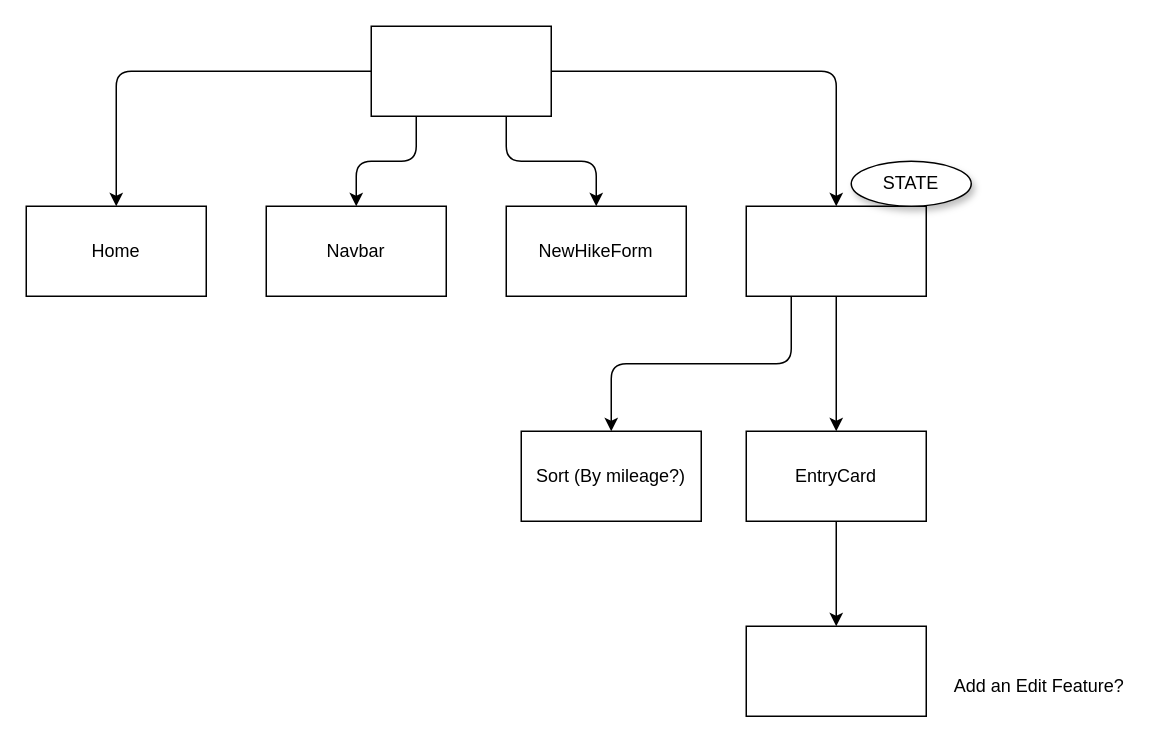
The diagram is 1163 pixels wide and 743 high, and some of its shapes have lost their labels. The shapes that lost their labels are listed below. From the top down, each one's centre as x and y in pixels, then its label:
At point (460, 70): "App".
At point (835, 250): "Entries".
At point (835, 670): "EntryDetails".
